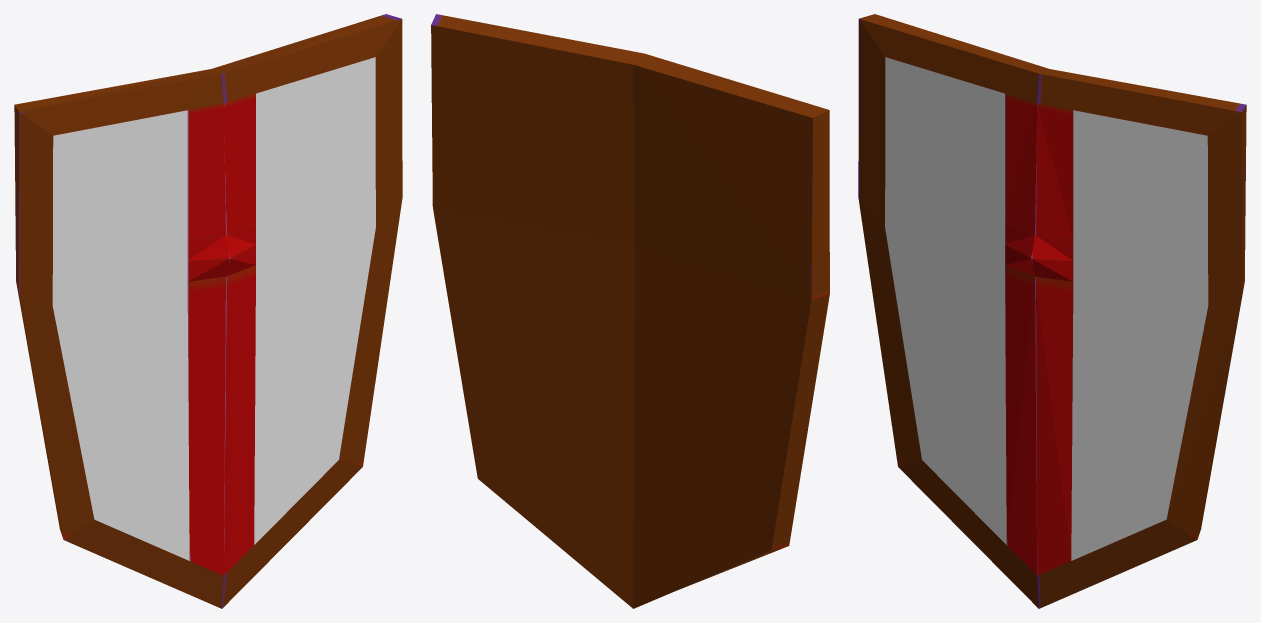
The model's file is shield1.obj.
3 views of the same model, side by side, from view 1: azimuth 30°, elevation 25°; view 2: azimuth 150°, elevation 25°; view 3: azimuth 330°, elevation 25° (orthographic). The views are drawn at different scales.
Visible parts, largest first — view 1: Object.1; view 2: Object.1; view 3: Object.1.
Part boxes in pixels (box(x1,y1,x2,y2)): Object.1: box(14, 14, 402, 608); Object.1: box(431, 14, 829, 608); Object.1: box(858, 14, 1246, 608).
Size of the model in its own units: 0.6 by 0.8 by 0.08.
